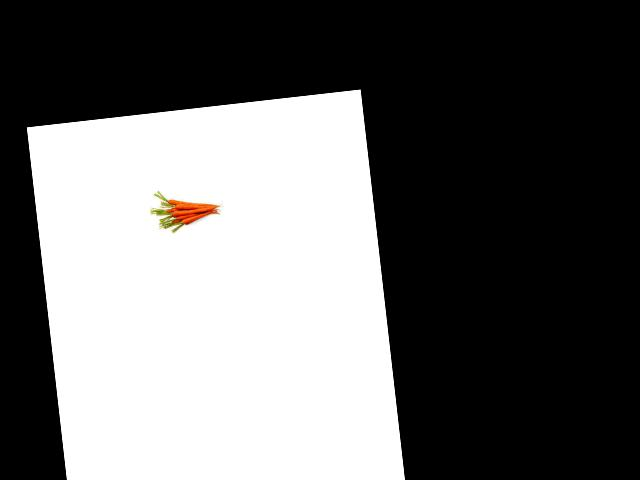carrot: (178, 207, 217, 228)
